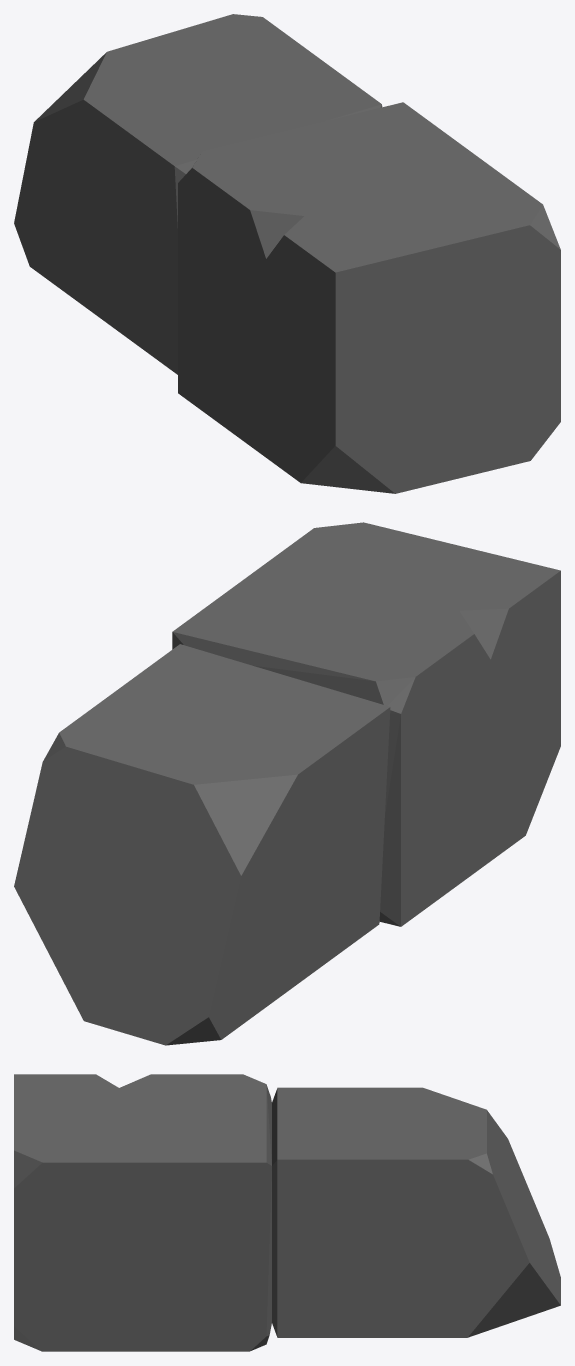
File: Pillar.fbx
3 views of the same model, one above another, from view 1: azimuth 30°, elevation 25°; view 2: azimuth 150°, elevation 25°; view 3: azimuth 270°, elevation 25° (orthographic). The views are drawn at different scales.
Parts seen in each view (by area): view 1: Pillar; view 2: Pillar; view 3: Pillar.
Part boxes in pixels (x1,y1,x2,y2): Pillar: (14,14,560,493); Pillar: (14,522,560,1045); Pillar: (14,1074,560,1351).
Bounding box in the file's own units: 76.25 × 76.25 × 200.
1 material, 1 textured.
